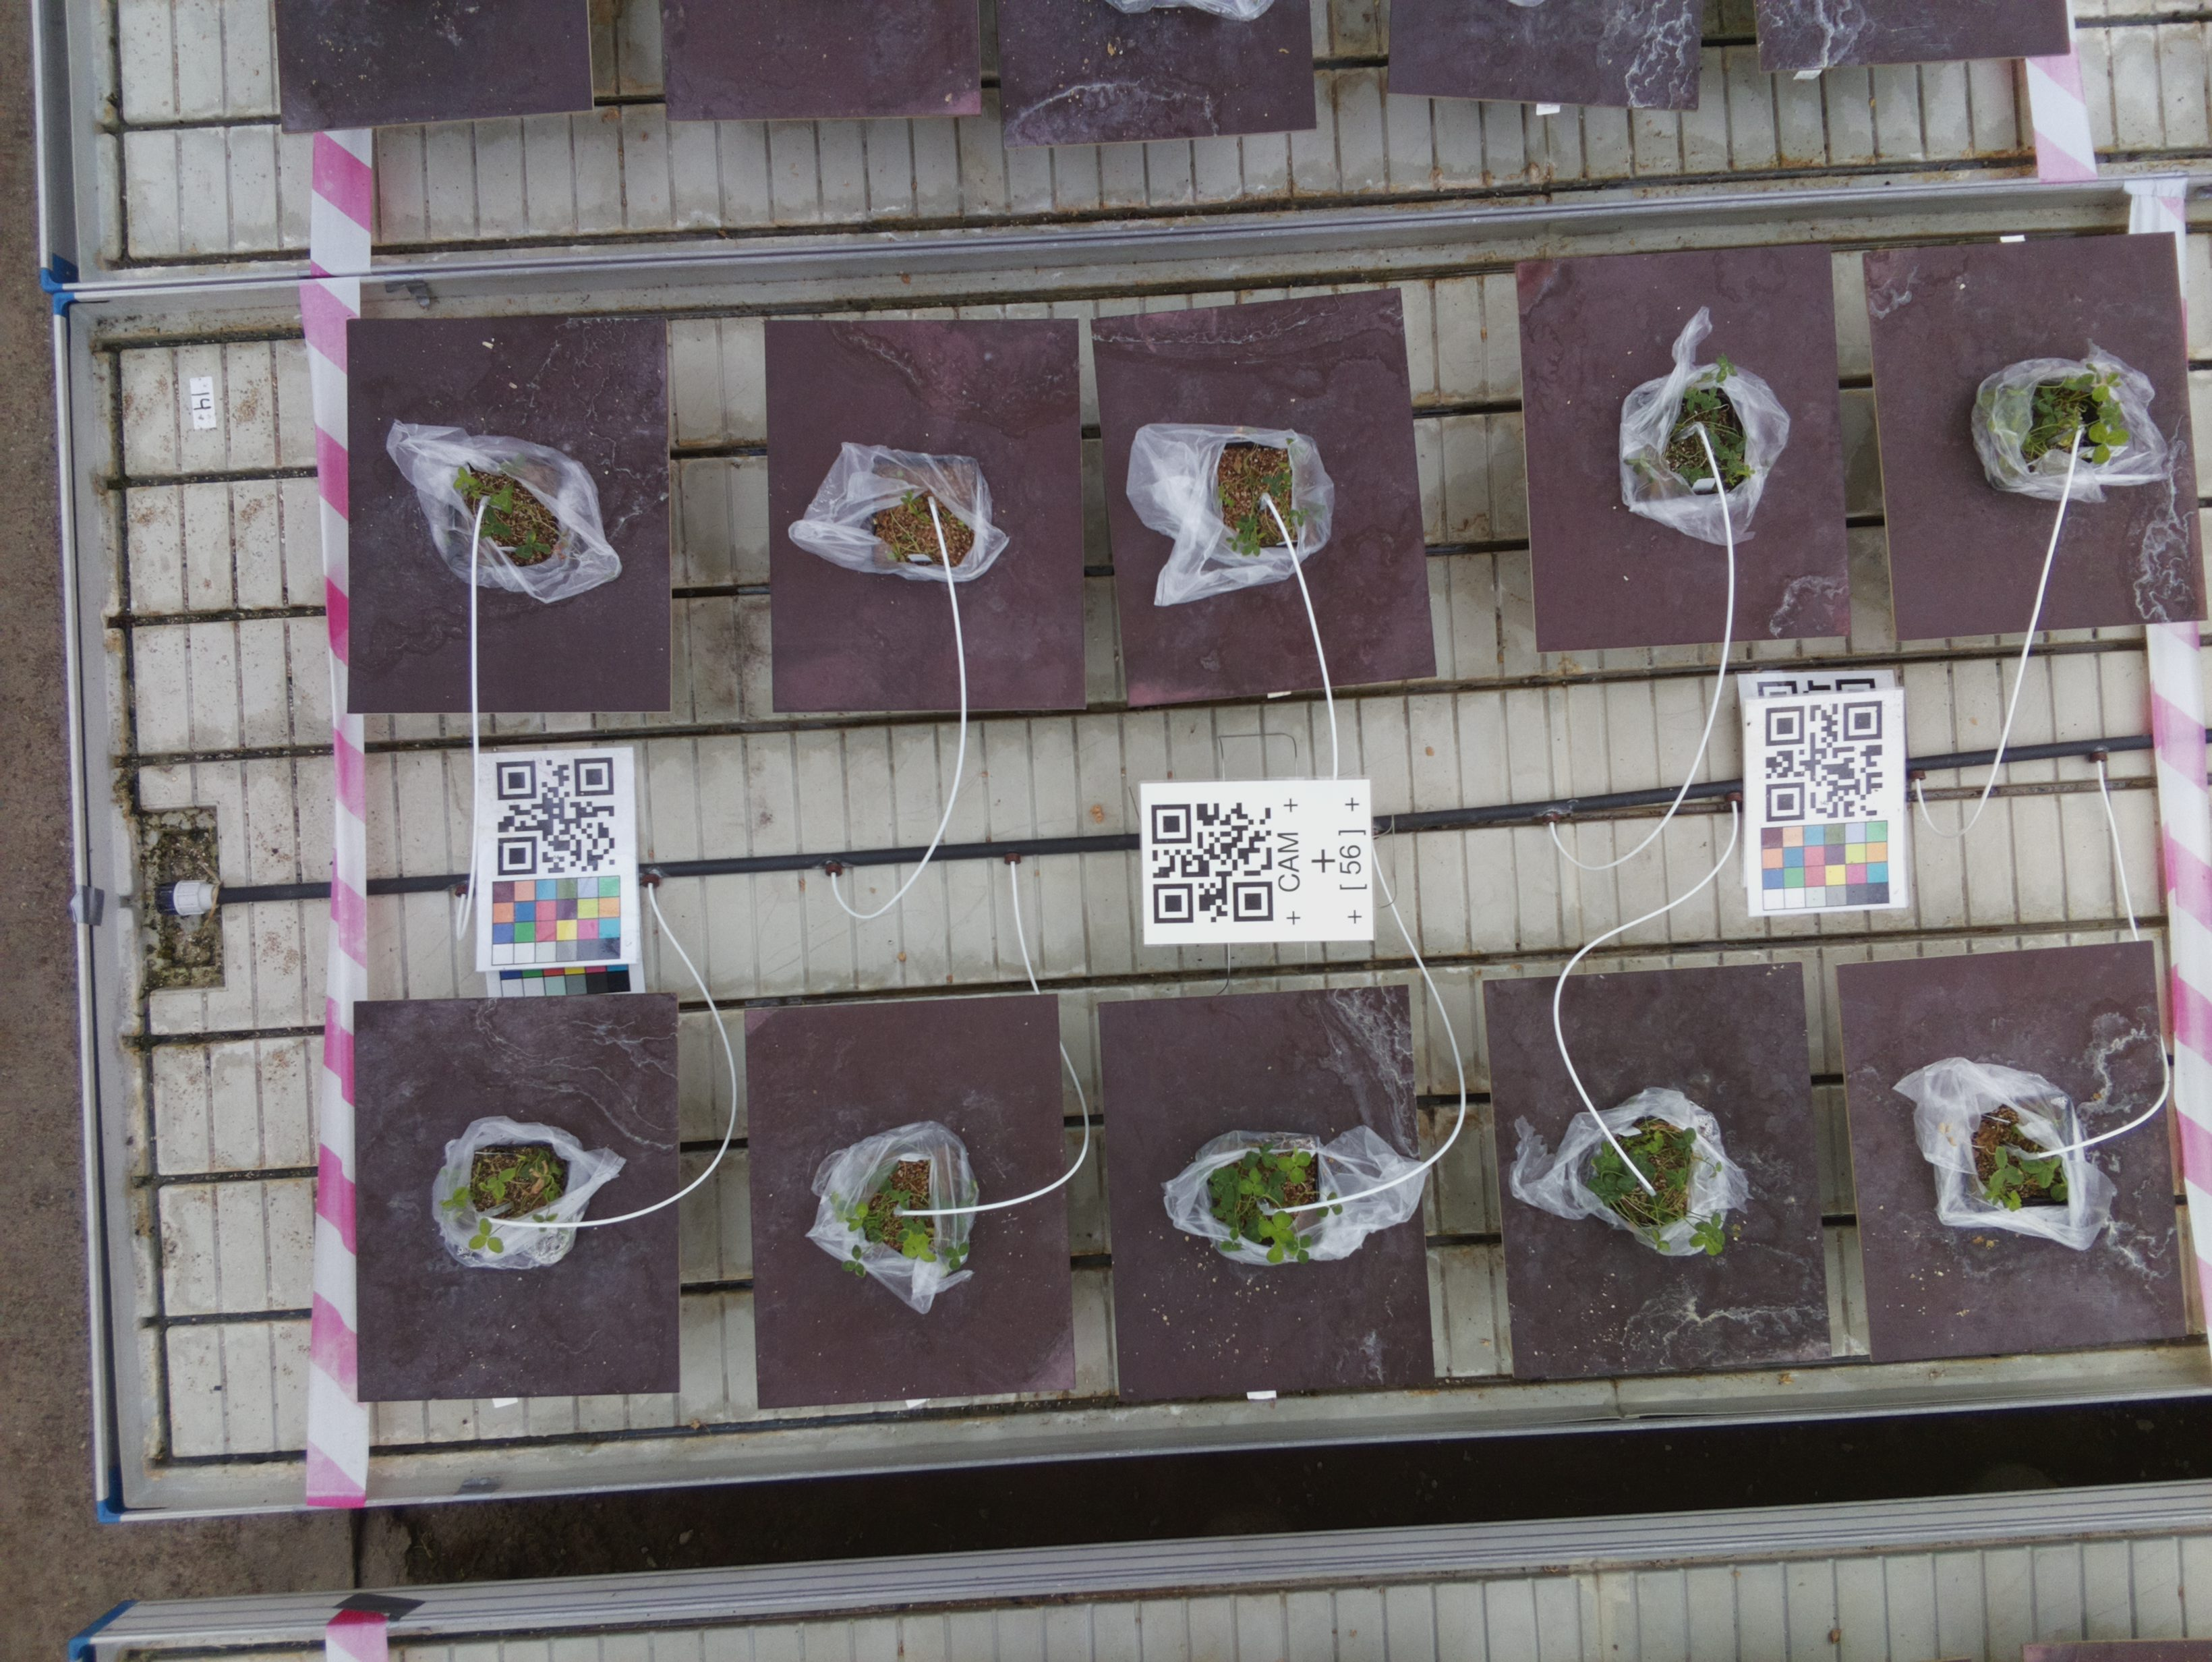POT: (1096, 292, 1461, 711), (1835, 958, 2195, 1351), (1480, 978, 1835, 1370), (1096, 999, 1440, 1393), (1865, 250, 2212, 635), (742, 1004, 1075, 1398), (351, 1004, 684, 1393), (344, 318, 669, 714), (1514, 257, 1847, 635), (763, 318, 1084, 704)
QRCODE: (1142, 775, 1372, 948)
QRCOLOR: (1737, 676, 1905, 911), (477, 754, 641, 992)
